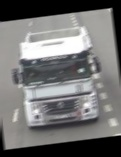truck: (7, 24, 106, 130)
